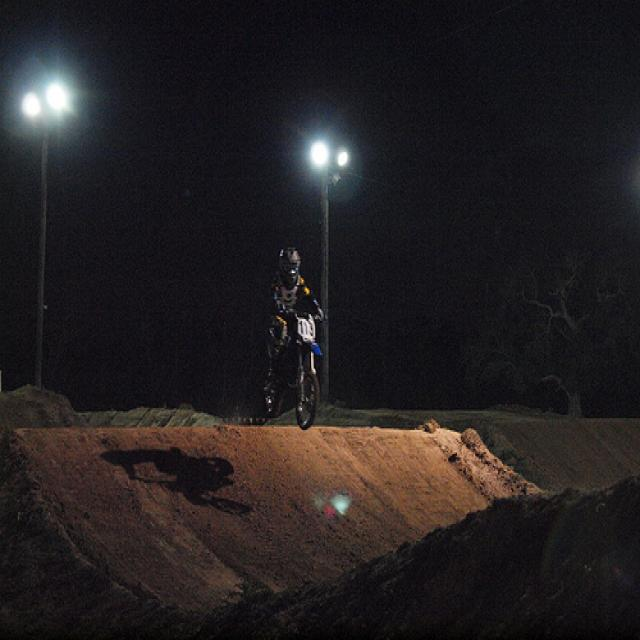Motorbike: (247, 319, 363, 419)
People: (273, 230, 318, 374)
